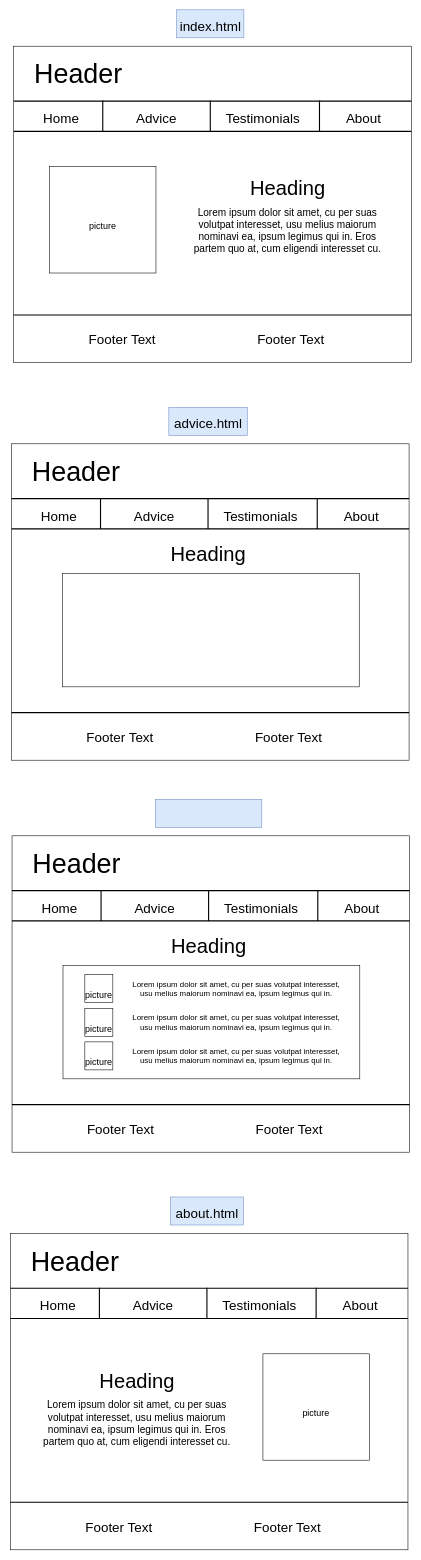
Image size: 421x1560. Some labels were removed from this diagram. Each missing label, with the box of its shape:
contact form: (62, 573, 359, 687)
testimonials.html: (155, 799, 262, 827)
